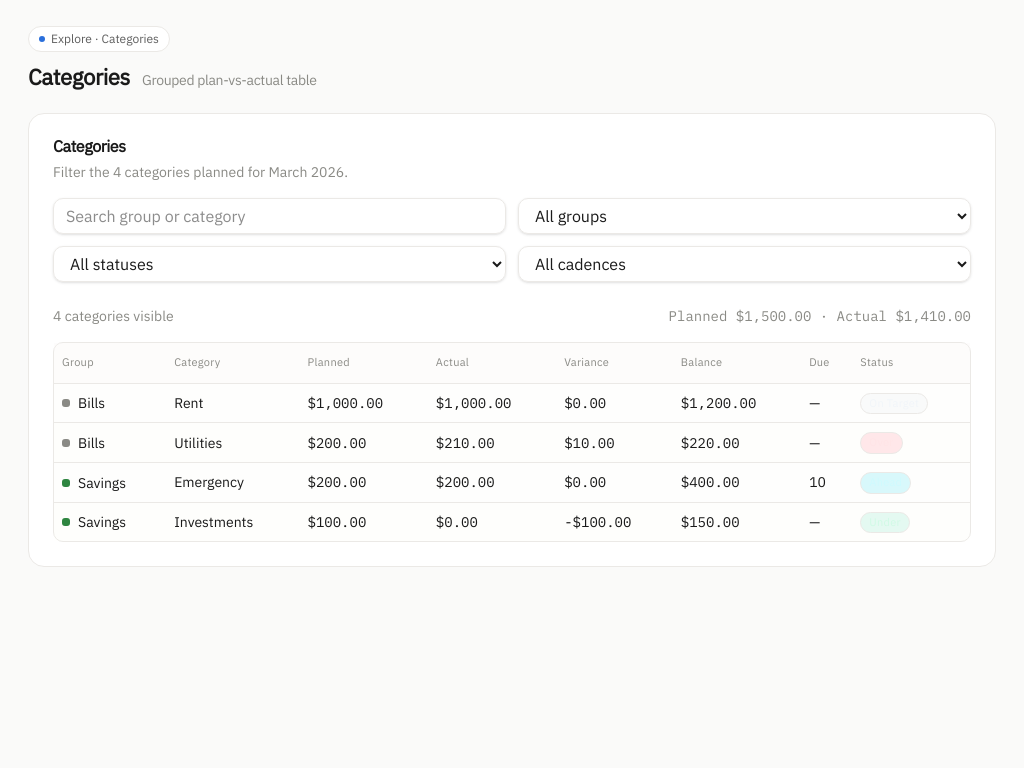
Test: CategoriesPage › filters categories by search text
The image size is (1024, 768).
Expected: the text "Rent" is shown, 166,383 -> 300,423
Type "invest" into the field with placeholder "Search group or category" at (280, 216), box 53,198 -> 506,234
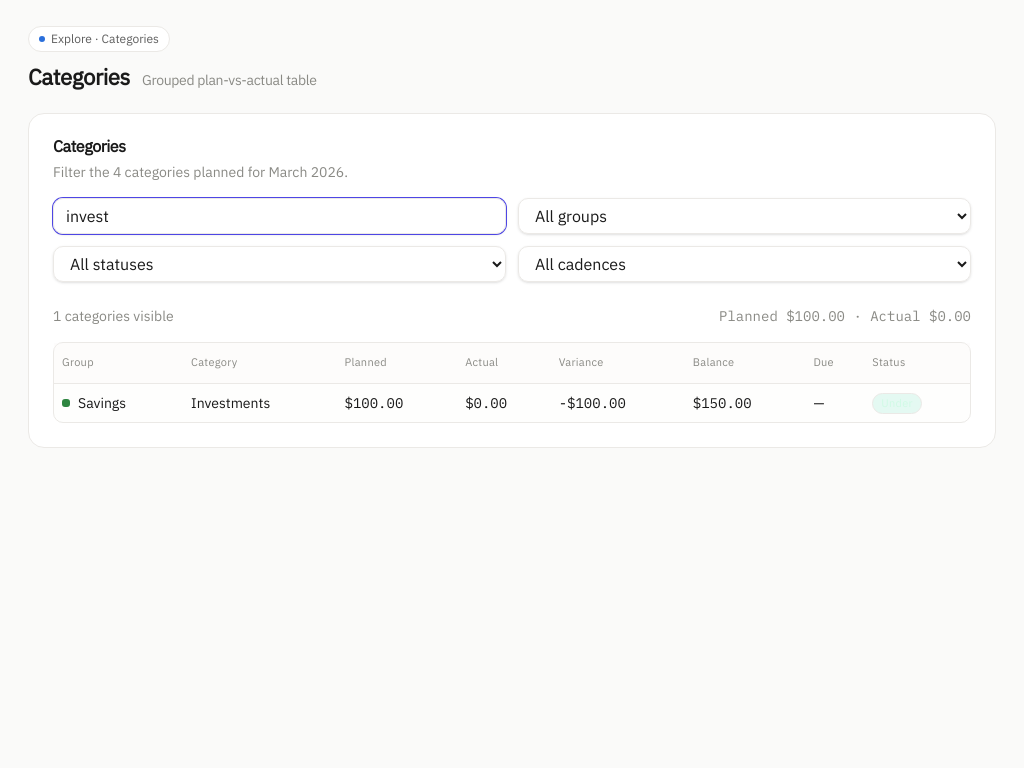
Expected: the text "Rent" is gone
Expected: the text "Investments" is shown, 183,383 -> 336,422
